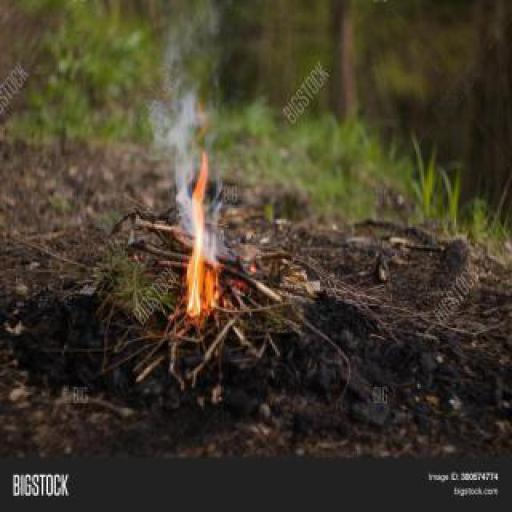smoke: (146, 18, 227, 266), (181, 152, 224, 317)
